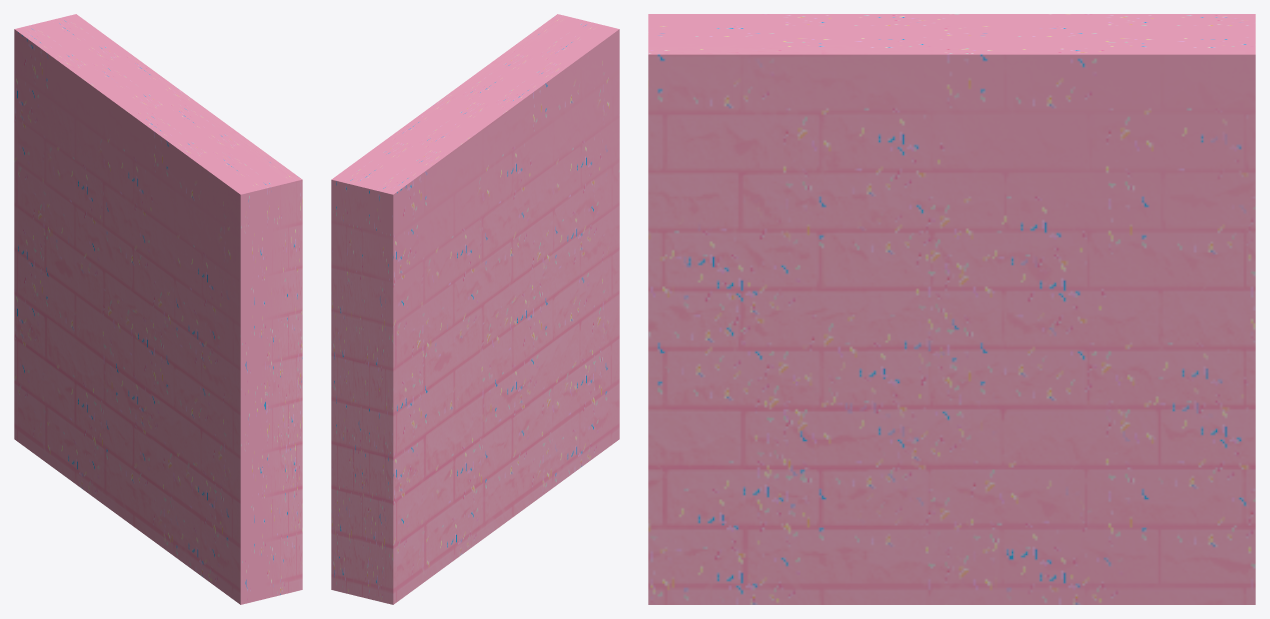
File: icduvar4.fbx
The picture shows the model from 3 angles, left to right: view 1: azimuth 30°, elevation 25°; view 2: azimuth 150°, elevation 25°; view 3: azimuth 270°, elevation 25°; orthographic projection. The views are drawn at different scales.
Parts seen in each view (by area): view 1: Cube.005; view 2: Cube.005; view 3: Cube.005.
Part boxes in pixels (box(x1,y1,x2,y2)): Cube.005: box(14, 14, 302, 604); Cube.005: box(331, 14, 619, 604); Cube.005: box(648, 14, 1255, 604).
Bounding box in the file's own units: 63.17 × 400 × 400.
1 material, 1 textured.
